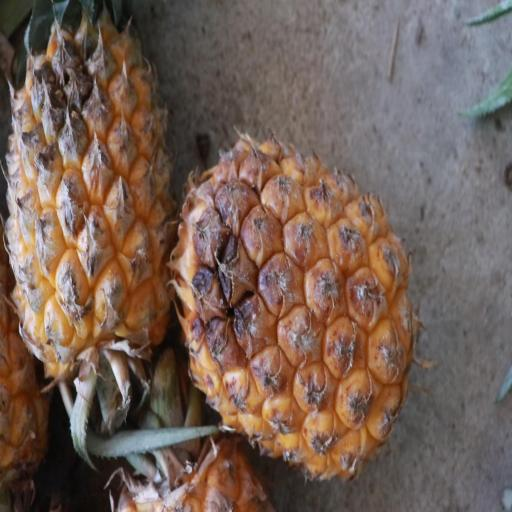Pineapple - v8 v1: (169, 132, 417, 487), (0, 2, 177, 395)
